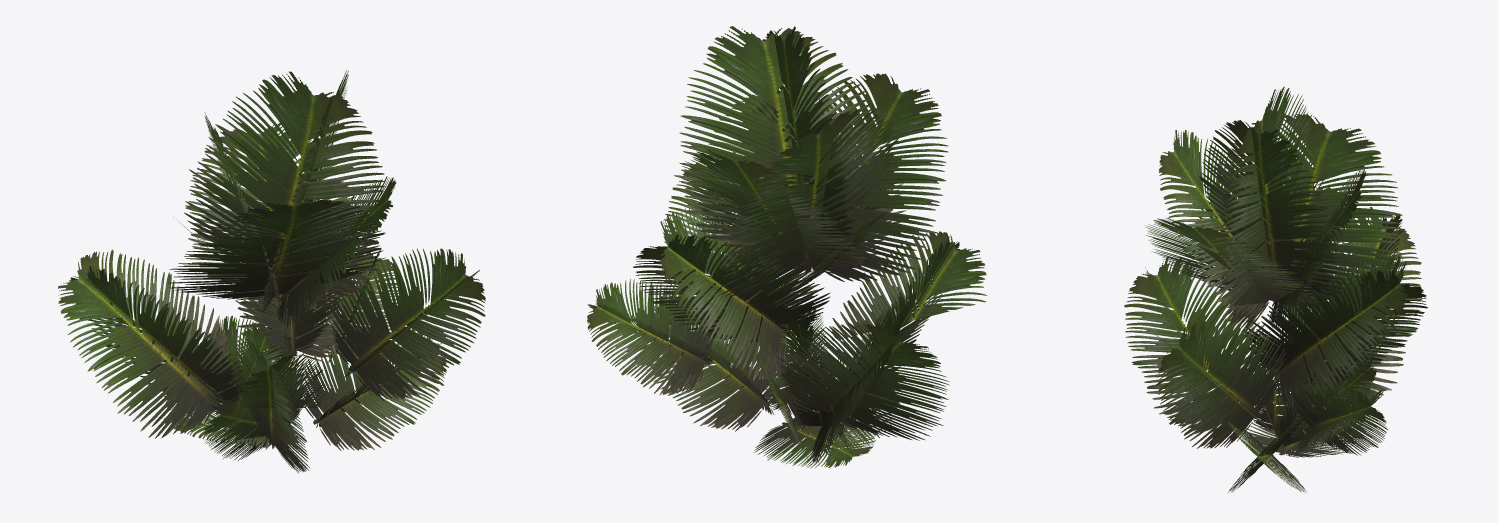
The model's file is shuye01.FBX.
The picture shows the model from 3 angles, left to right: view 1: azimuth 30°, elevation 25°; view 2: azimuth 150°, elevation 25°; view 3: azimuth 270°, elevation 25°; orthographic projection. The views are drawn at different scales.
Parts seen in each view (by area): view 1: shuye01; view 2: shuye01; view 3: shuye01.
Part boxes in pixels (left/top/right/bottom): shuye01: left=58, top=70, right=485, bottom=473; shuye01: left=587, top=26, right=986, bottom=468; shuye01: left=1124, top=86, right=1427, bottom=493.
Bounding box in the file's own units: 237 × 238 × 199.
Materials: 1 (1 with a texture image).
